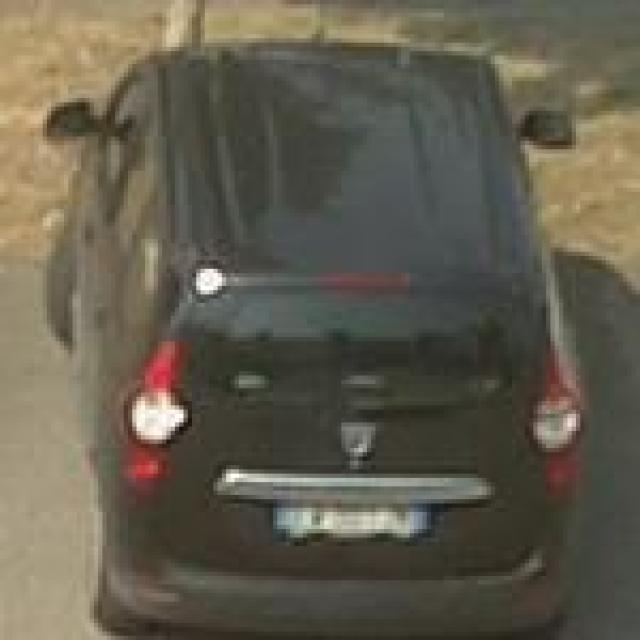cars-sUYr: (17, 24, 629, 640)
